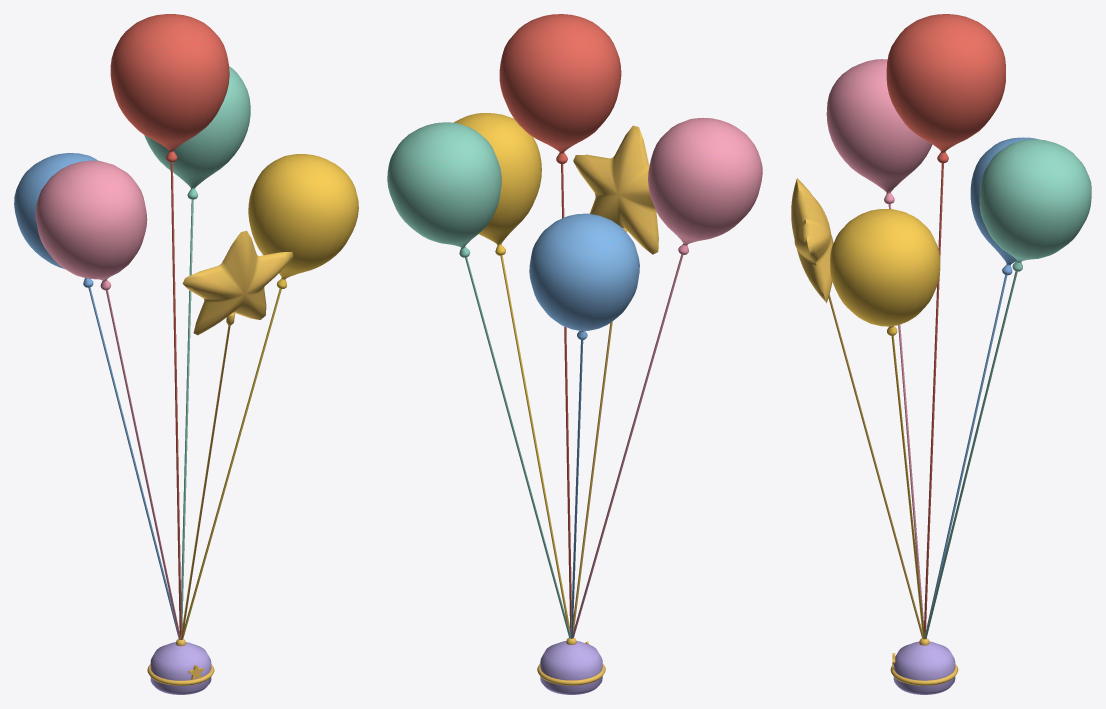
Rendered from globos.glb.
The picture shows the model from 3 angles, left to right: view 1: azimuth 30°, elevation 25°; view 2: azimuth 150°, elevation 25°; view 3: azimuth 270°, elevation 25°; orthographic projection. The views are drawn at different scales.
Parts seen in each view (by area): view 1: balloon_body; view 2: balloon_body; view 3: balloon_body.
Part boxes in pixels (x1=…): balloon_body: x1=14, y1=14, x2=358, y2=694; balloon_body: x1=387, y1=14, x2=762, y2=694; balloon_body: x1=791, y1=14, x2=1091, y2=694.
Bounding box in the file's own units: 0.8878 × 1.79 × 0.7372.
1 material, 1 textured.
